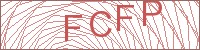C: (89, 10, 113, 37)
F: (115, 4, 136, 32), (64, 14, 83, 42)
P: (141, 1, 165, 27)
